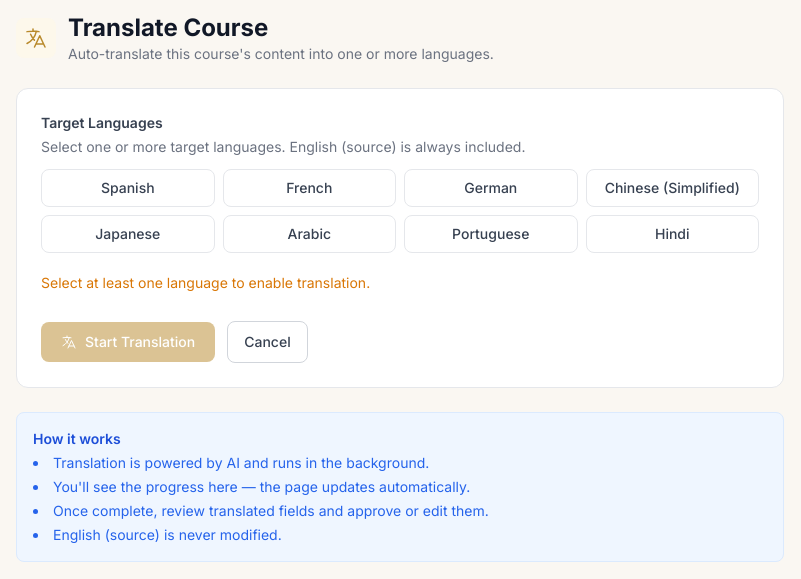
Test: LocalePicker — selection enables submit › submit button is enabled after selecting at least one locale
Click the button with test id "locale-btn-es".
click(128, 188)  # box [41,169,214,207]
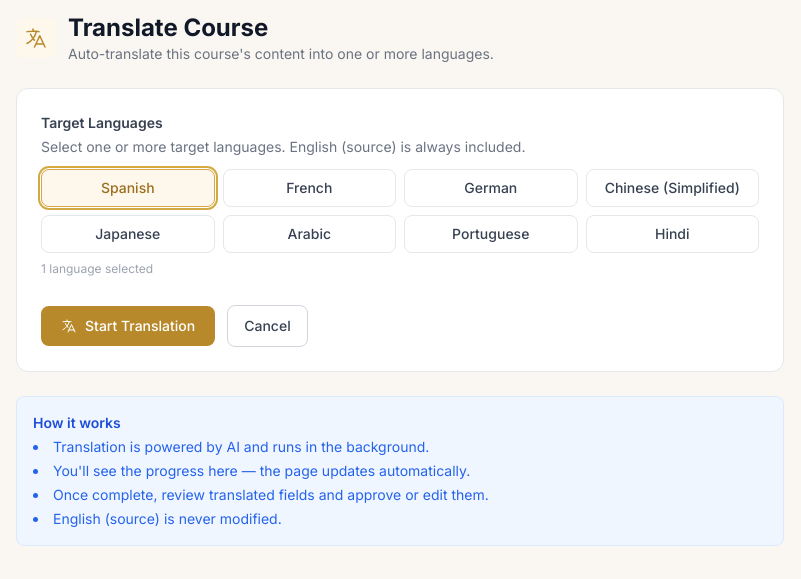
Now the button with test id "translate-submit-btn" is enabled, box [41,306,215,346]
